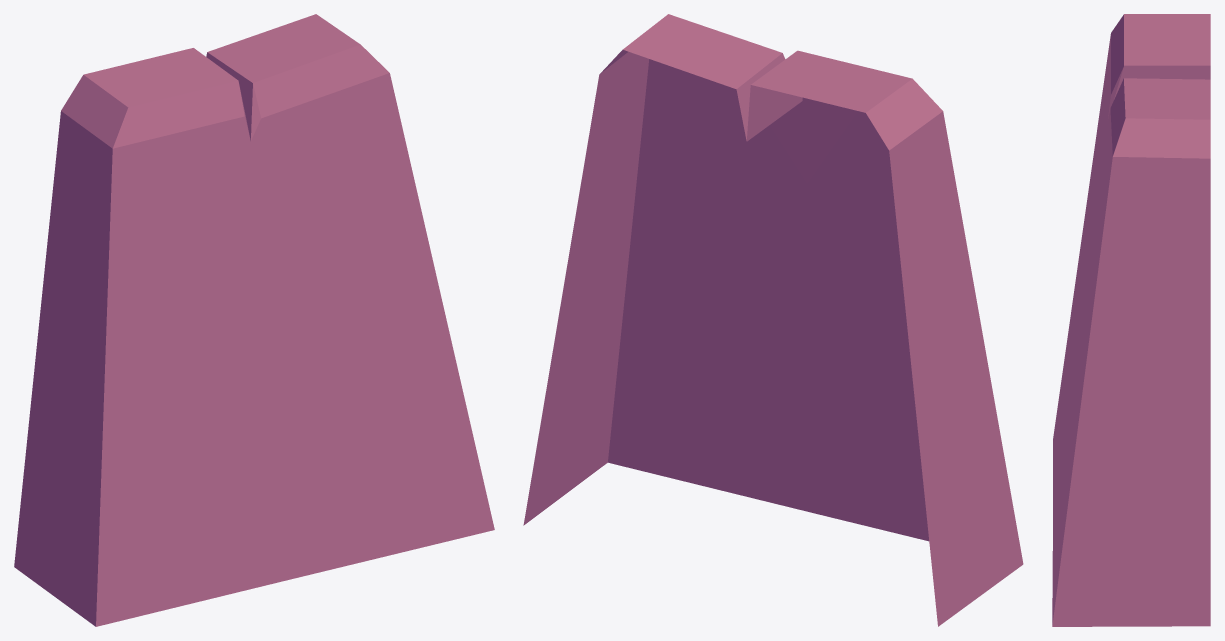
File: Module_Rock_Mesh_04_v01.fbx
3 renders of one model, left to right at view 1: azimuth 30°, elevation 25°; view 2: azimuth 150°, elevation 25°; view 3: azimuth 270°, elevation 25°, orthographic. The views are drawn at different scales.
Visible parts, largest first — view 1: Module_Rock_Mesh_04_v01; view 2: Module_Rock_Mesh_04_v01; view 3: Module_Rock_Mesh_04_v01.
Boxes of the visible parts, bbox=[...] form: Module_Rock_Mesh_04_v01: bbox=[14, 14, 494, 626]; Module_Rock_Mesh_04_v01: bbox=[523, 14, 1023, 626]; Module_Rock_Mesh_04_v01: bbox=[1052, 14, 1210, 626].
Size of the model in its own units: 199 by 230 by 71.16.
